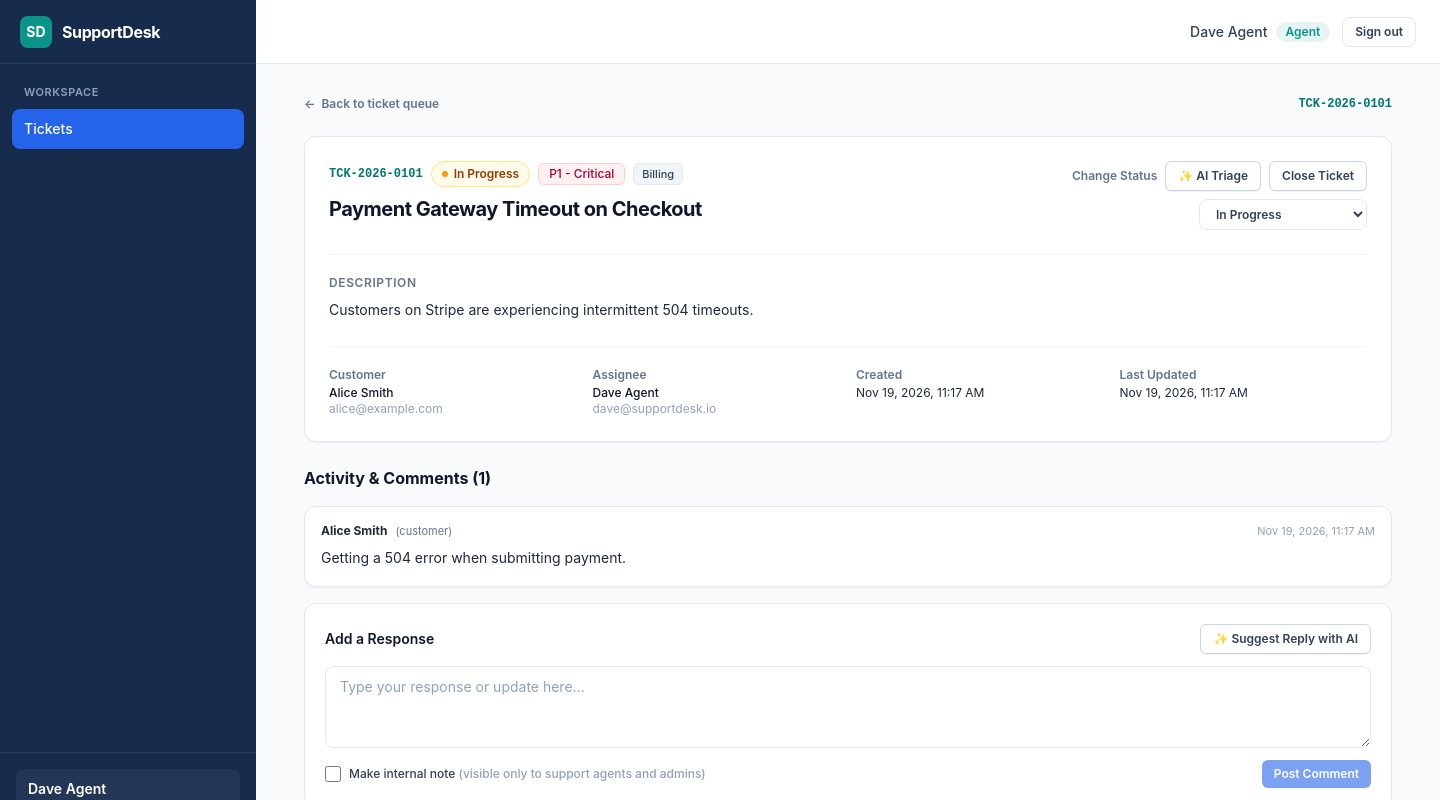
it: AI Features Frontend UI › Feature 1: Suggest Reply (Streaming Draft) › streams suggested reply into draft box and allows agent to copy it to response box
The width and height of the screenshot is (1440, 800).
Expected: the heading "Payment Gateway Timeout on Checkout" is shown, x1=329 y1=195 x2=702 y2=223
Click the button "✨ Suggest Reply with AI": [1286, 639] box x1=1200 y1=624 x2=1371 y2=654
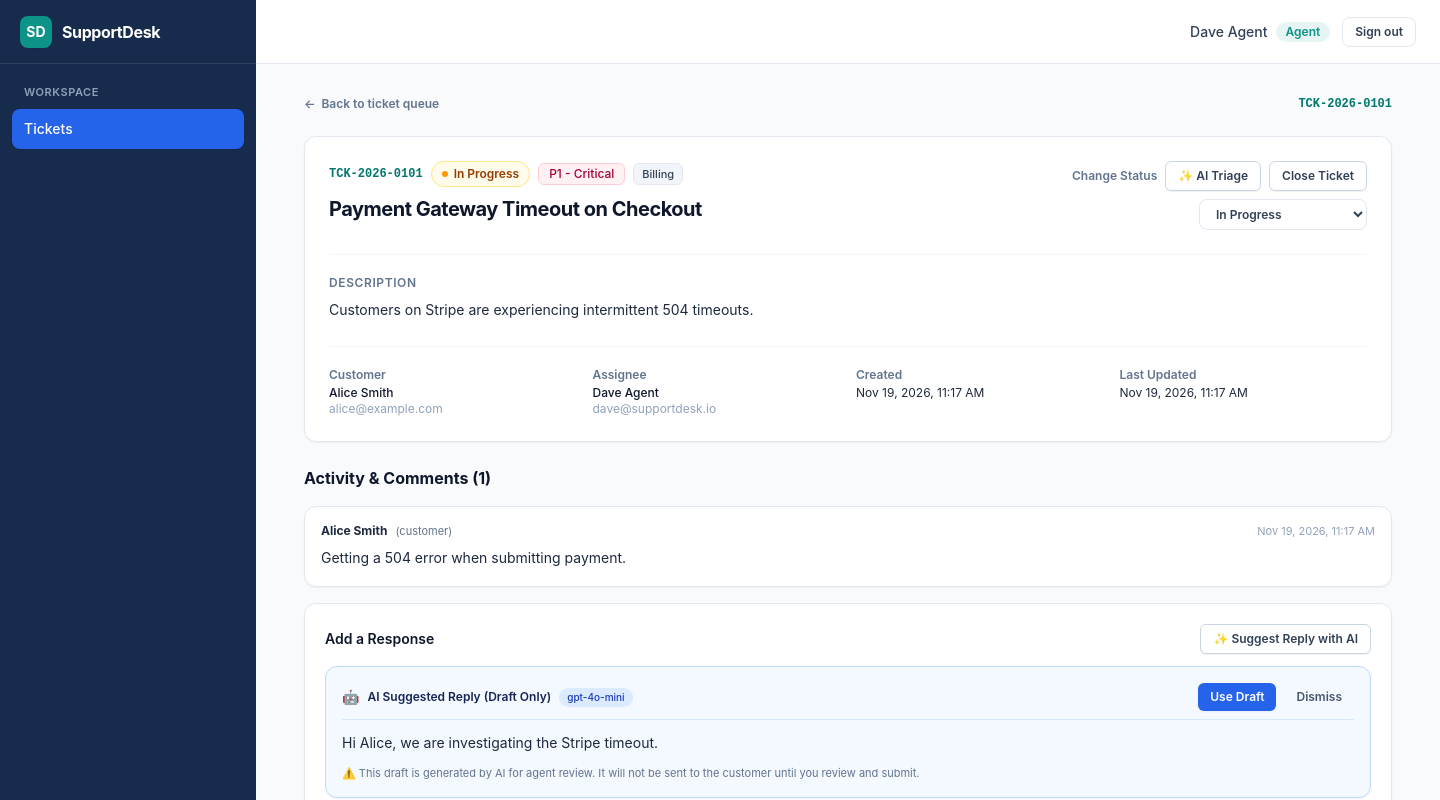
Expected: the text "Hi Alice, we are investigating the Stripe timeout." is shown, x1=342 y1=734 x2=658 y2=751
Expected: the text "This draft is generated by AI for agent review" is shown, x1=342 y1=766 x2=920 y2=780
# Click "Use Draft" to populate comment box
Click the button "Use Draft": [1237, 697] box x1=1198 y1=683 x2=1276 y2=711
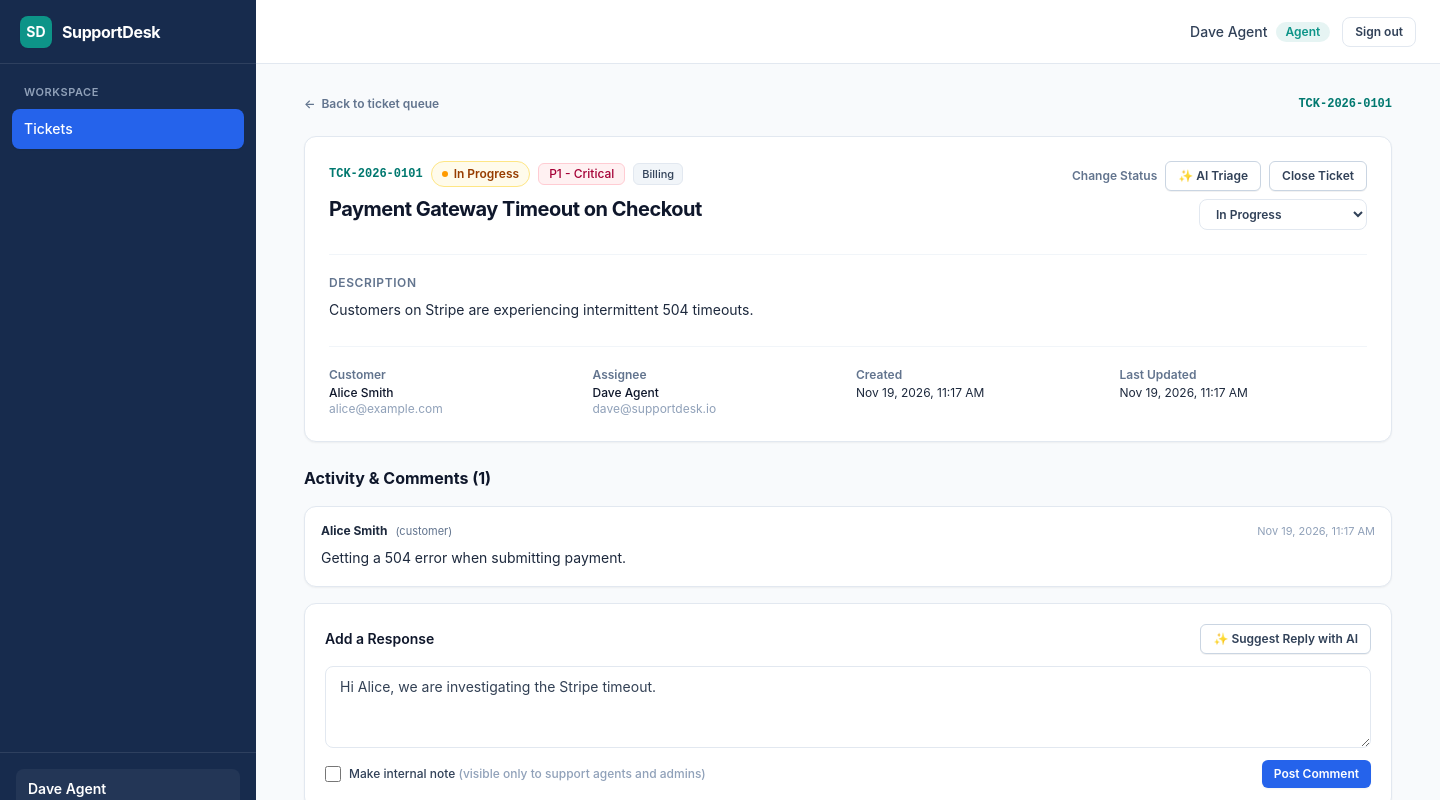
Expected: the text box named "comment response text" holds "Hi Alice, we are investigating the Stripe timeout.", x1=325 y1=666 x2=1371 y2=748
